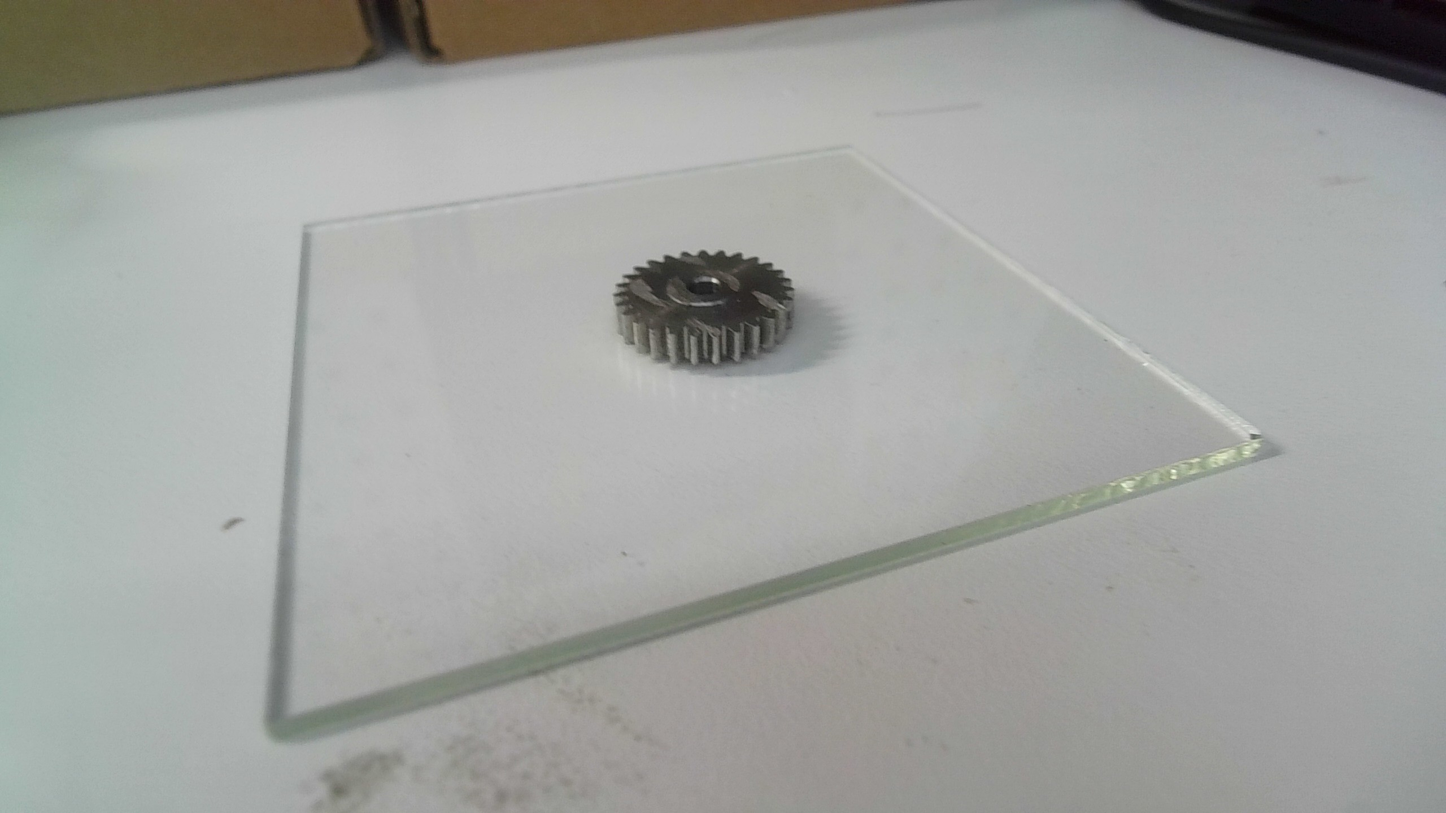gear: (610, 247, 798, 373)
